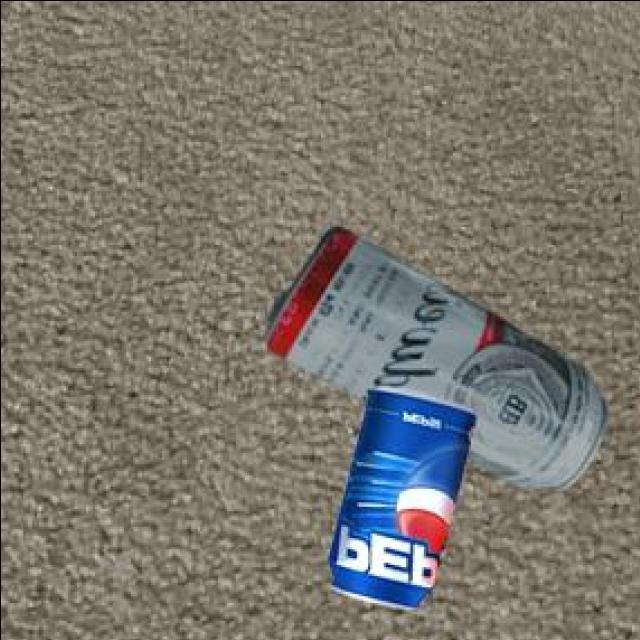logam: (267, 223, 610, 487), (332, 382, 478, 605)
